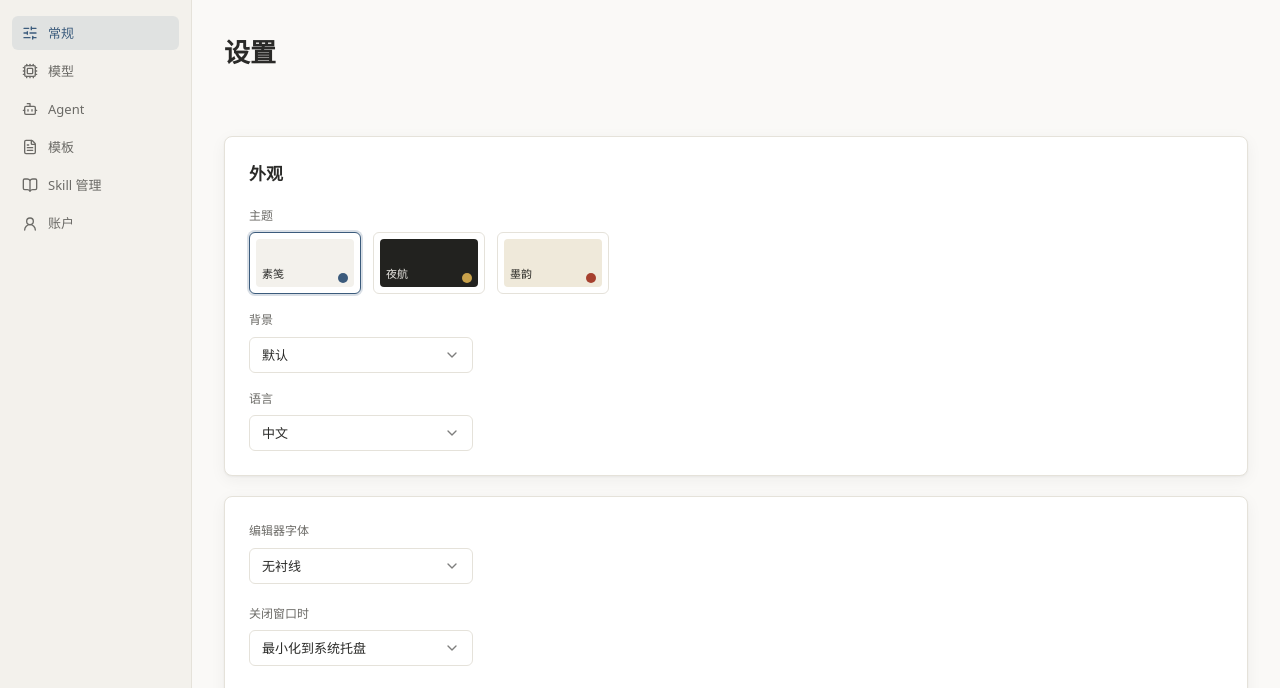
设置页 — 模板分类（#107 RED 契约） › 删除被引用模板 → 风险确认框（列出项目名）→ 确认 → DELETE + 列表移除
Click the button "模板" at (96, 147), box [12,130,179,164]
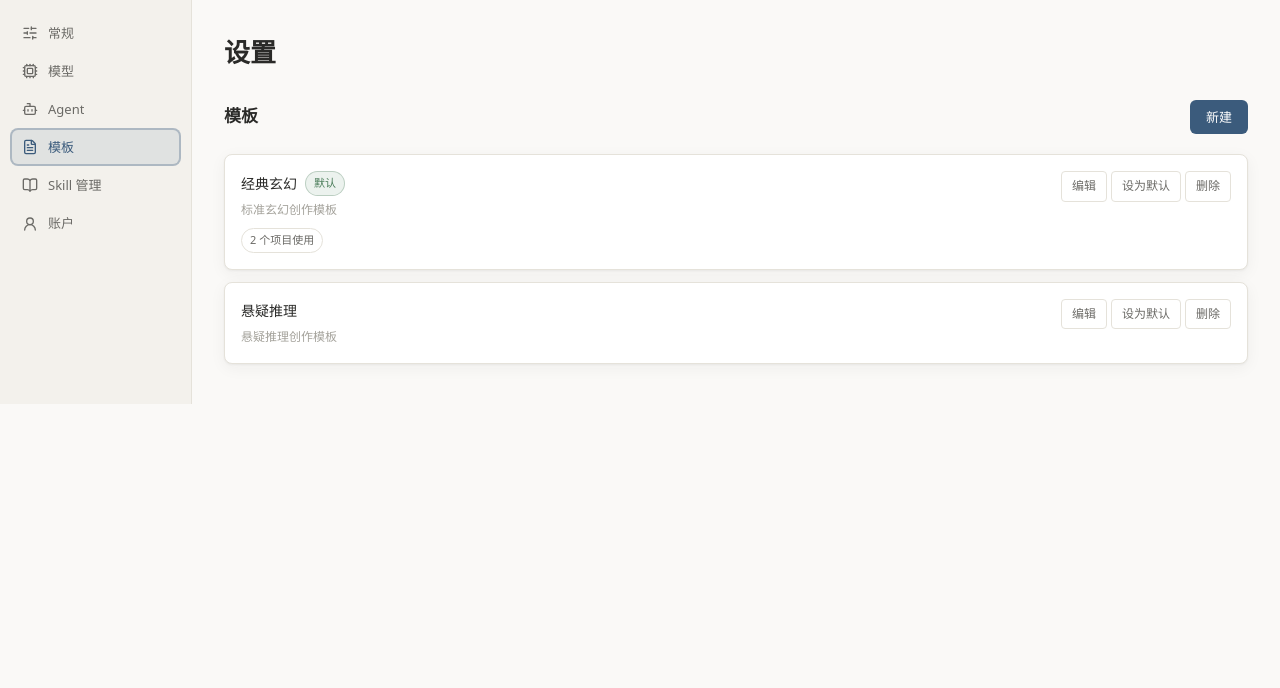
Click the button with test id "template-delete-1" at (1208, 186), box [1185,171,1231,202]
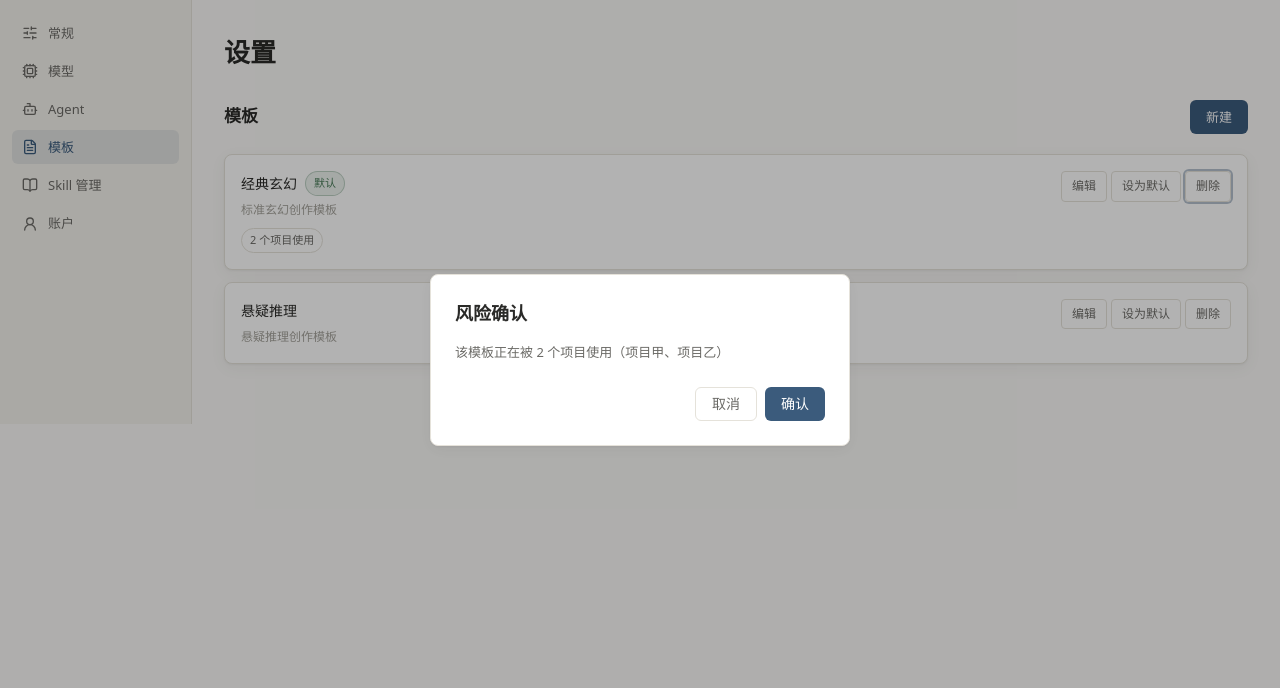
Expected: the dialog with test id "template-confirm-dialog" shows "该模板正在被 2 个项目使用（项目甲、项目乙）", [455,343,729,361]
Click the button with test id "template-confirm-ok" at (795, 404), box [765,387,825,421]
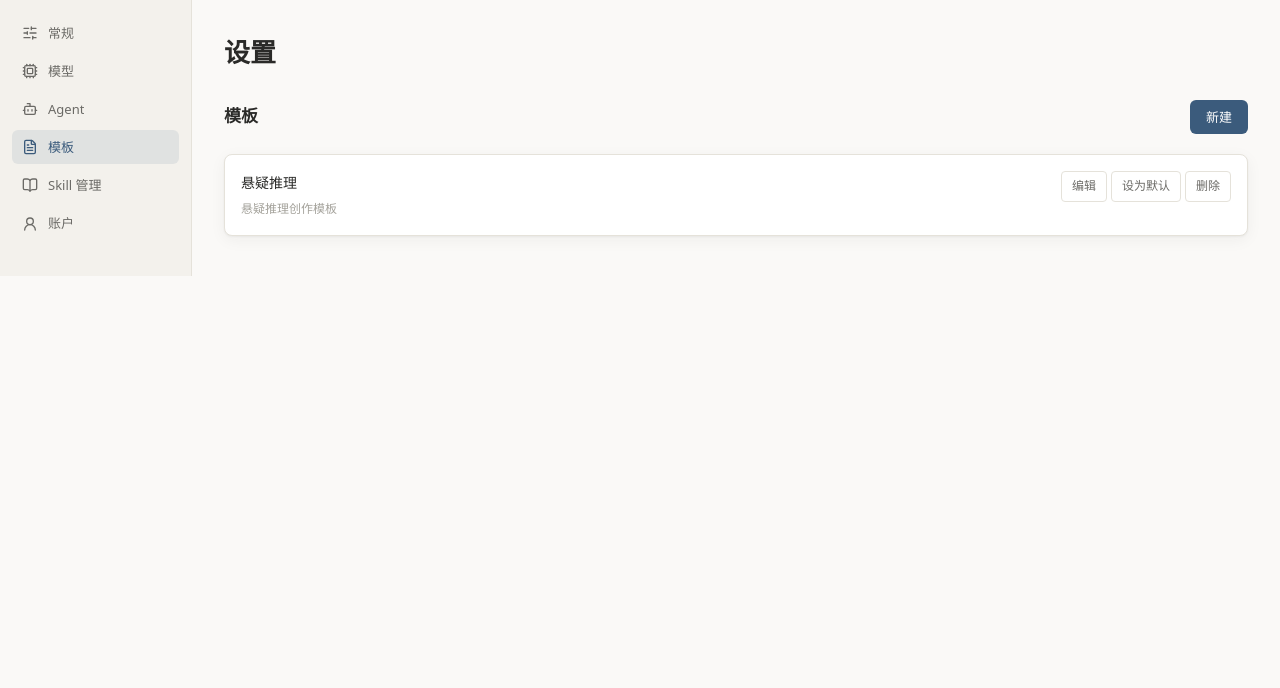
Expected: the element with test id "template-card-2" is shown, [224,154,1248,236]
Expected: the element with test id "template-card-1" is gone
